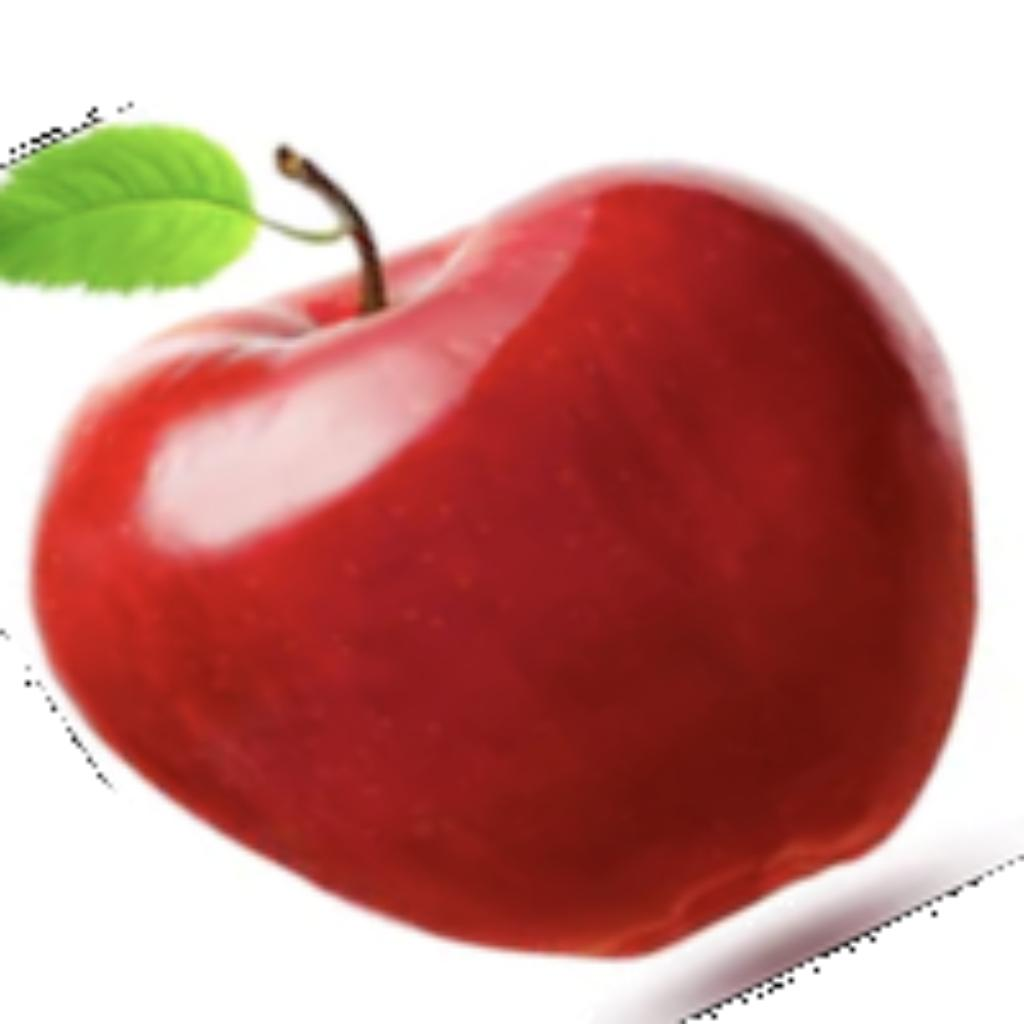apple: (15, 133, 983, 1019)
